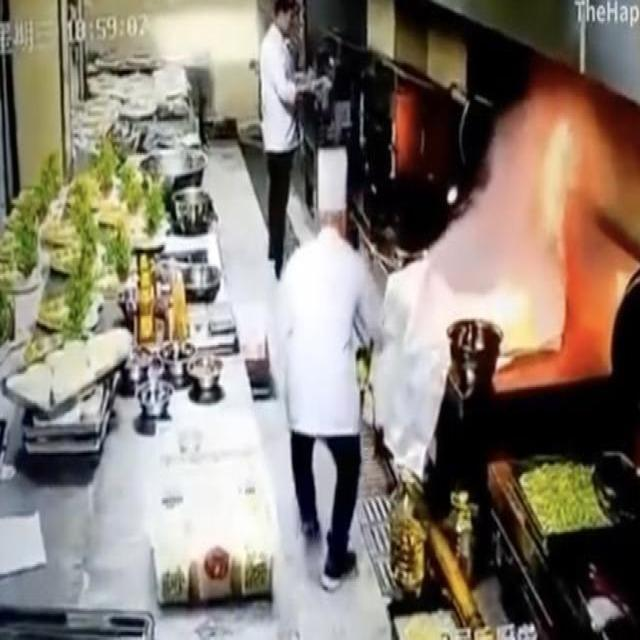smoke: (538, 106, 588, 245), (471, 278, 539, 364)
